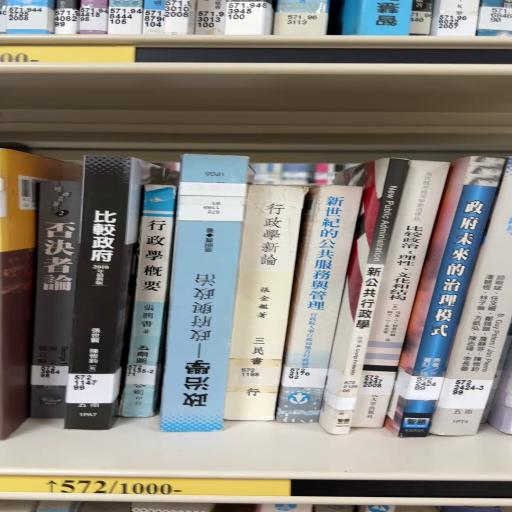reverse: (161, 156, 253, 433)
